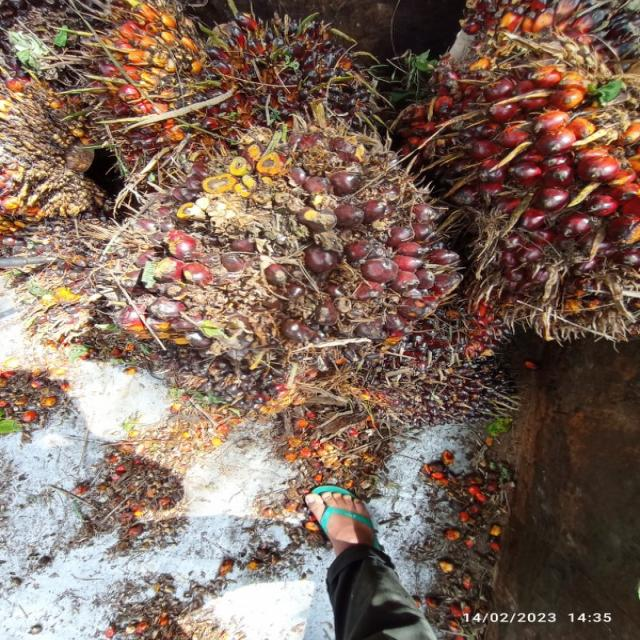fraksi 1: (117, 114, 491, 420)
